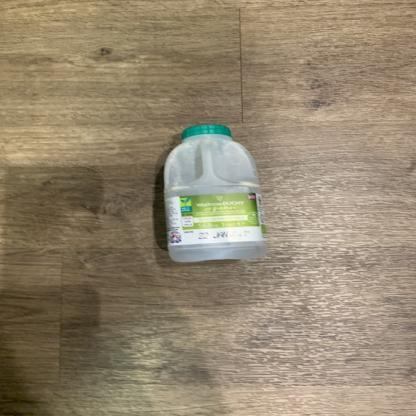trash: (160, 125, 273, 265)
